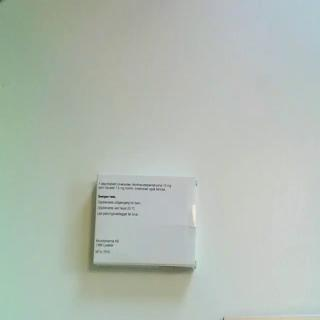dolcontin10mg: (93, 172, 199, 274)
